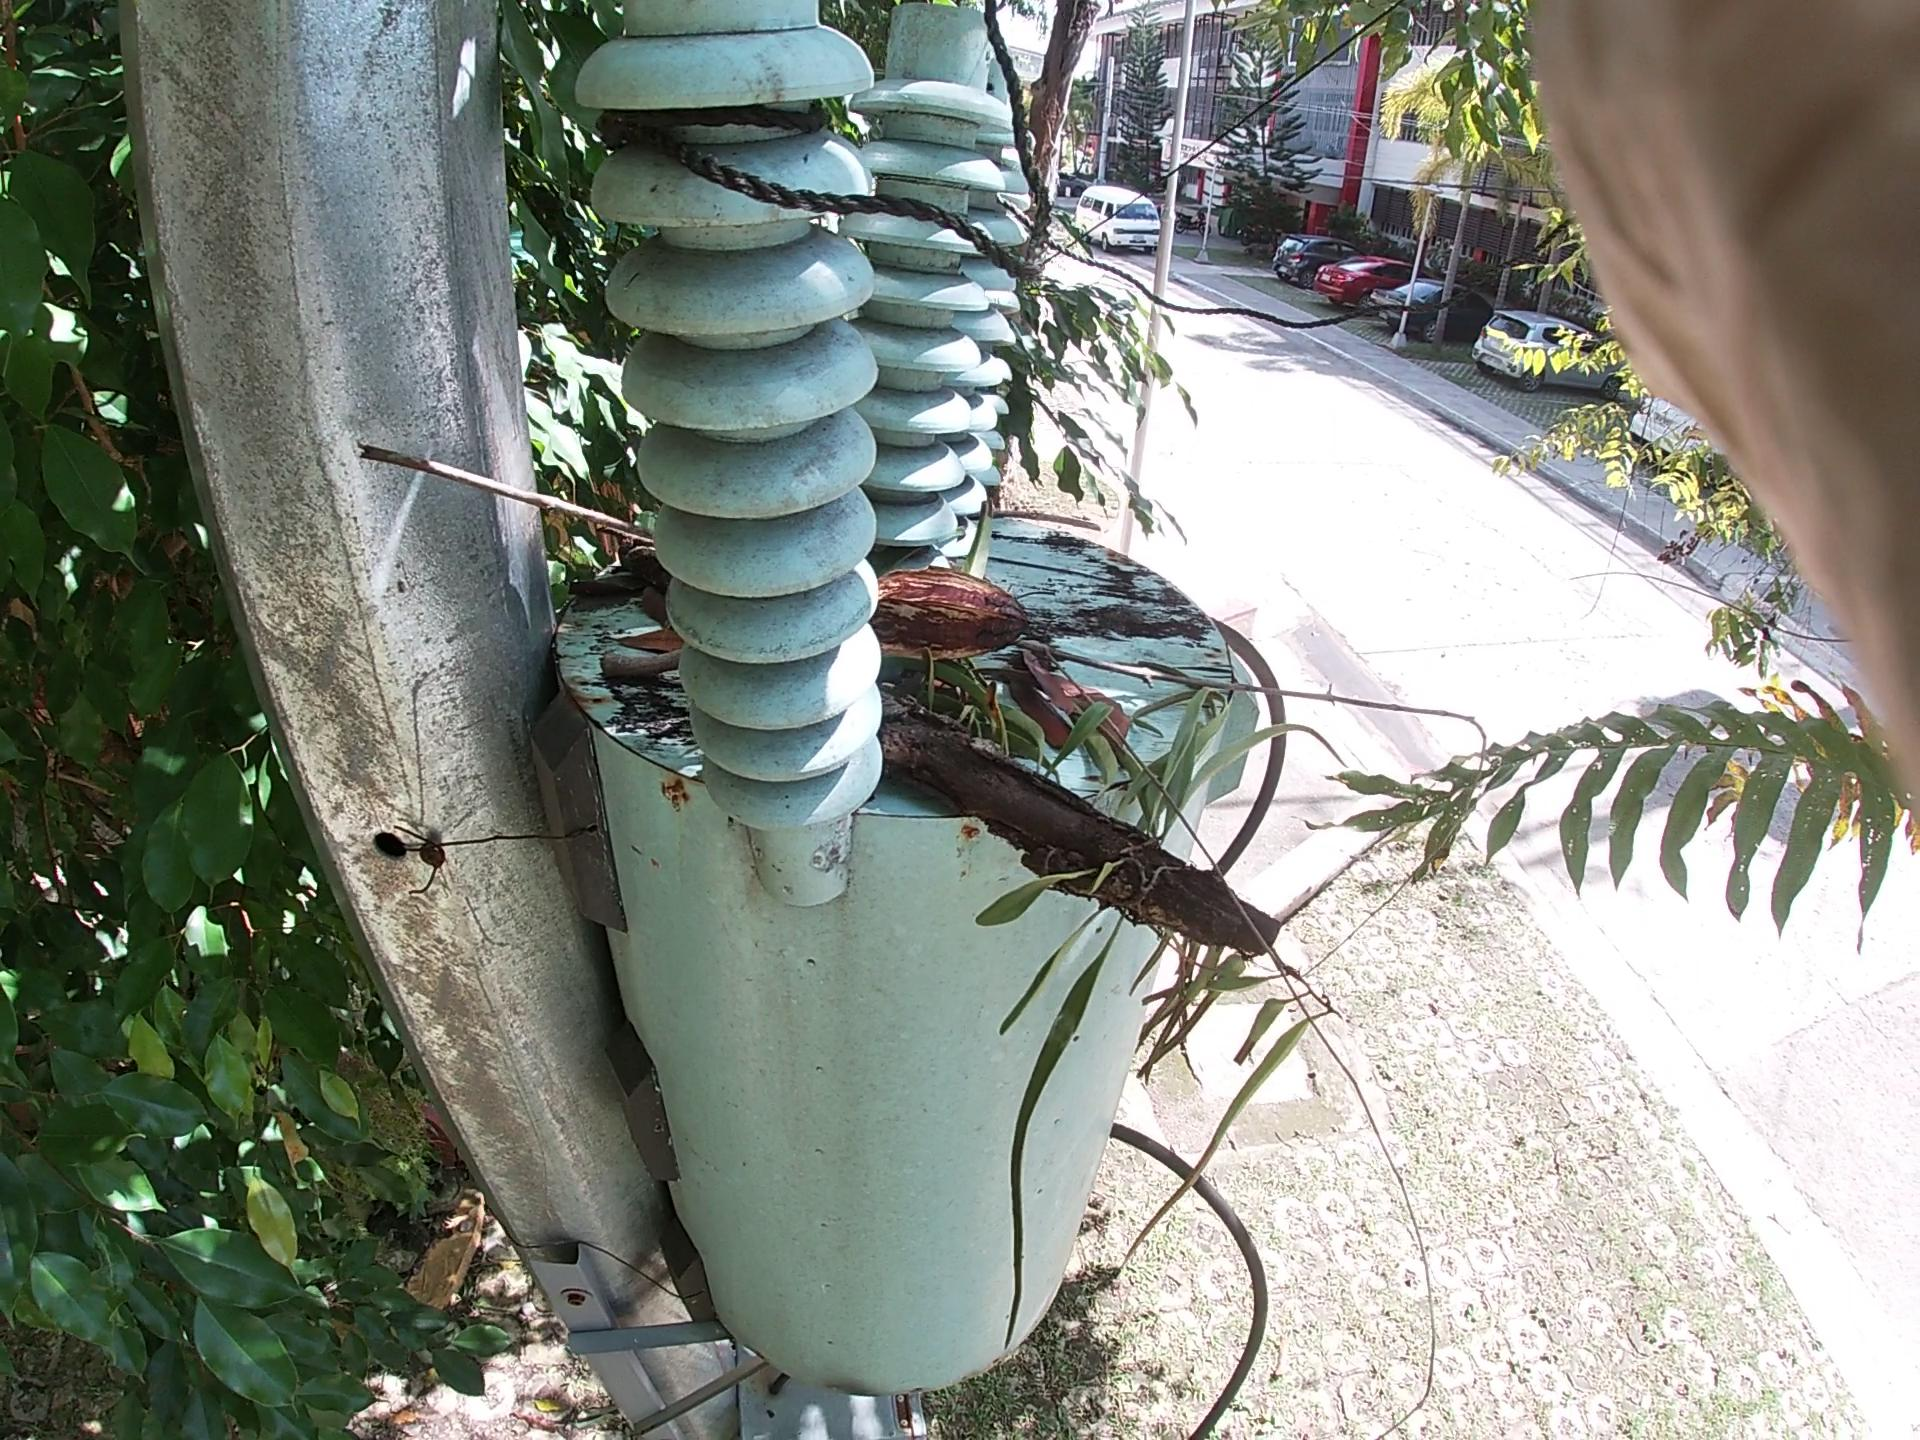branch with leaves: (859, 672, 1335, 1029)
mahogany fruit: (812, 537, 1092, 703)
tree branch: (348, 436, 1767, 806), (922, 476, 1126, 554), (591, 625, 748, 714)
